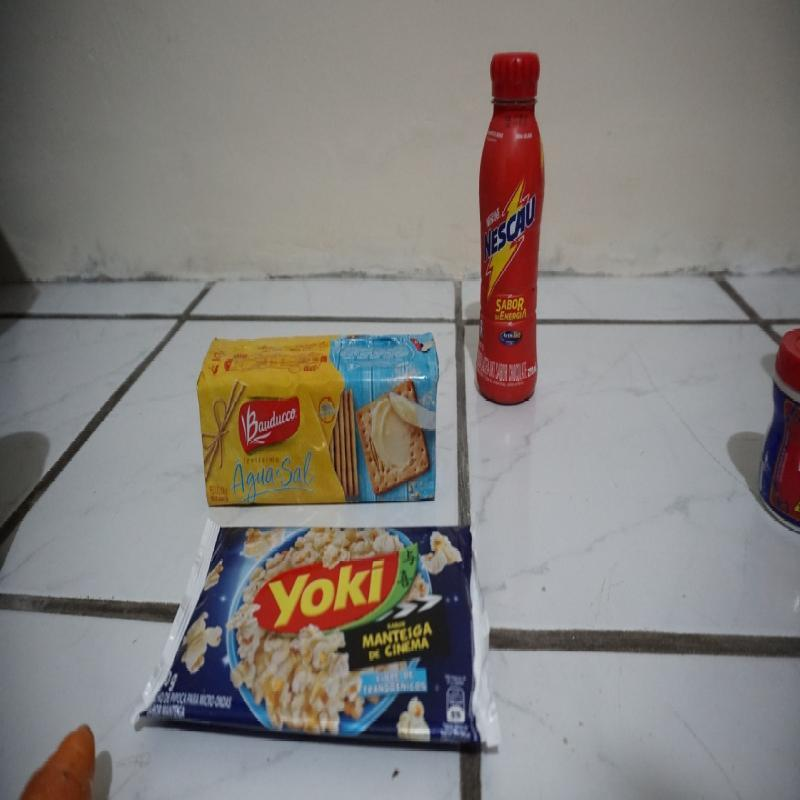Carrot: (12, 716, 98, 794)
Chocolate Milk: (474, 55, 541, 402)
Cracker: (198, 331, 438, 504)
Popcorn: (141, 517, 503, 751)
Yeast: (759, 334, 798, 528)
